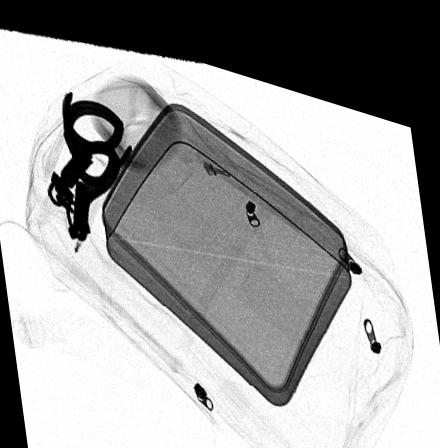HandCuffs: (48, 84, 133, 239)
